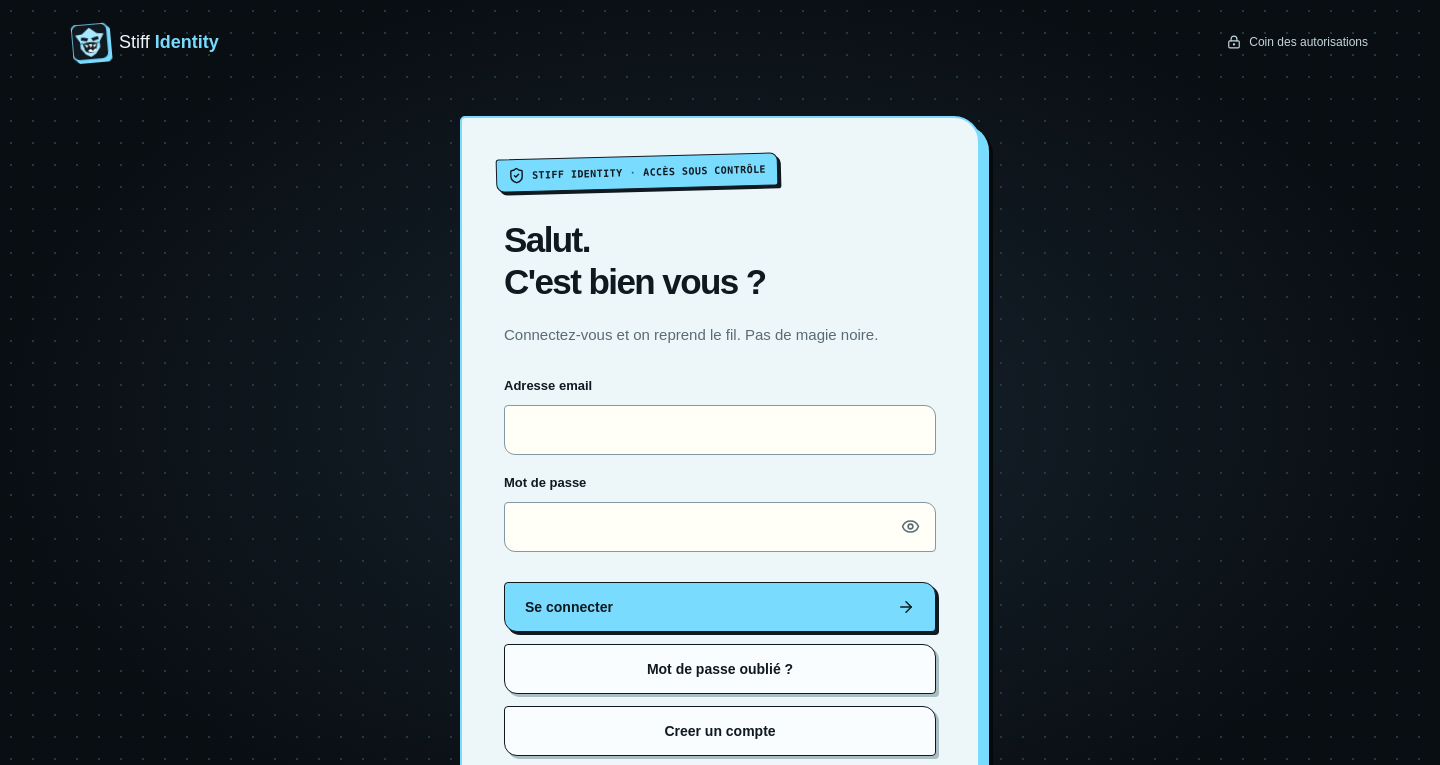
Test case: interface › propose la creation de compte et affiche une confirmation generique
The width and height of the screenshot is (1440, 765).
Click the button with class "auth-switch" at (720,731), box [504, 706, 936, 756]
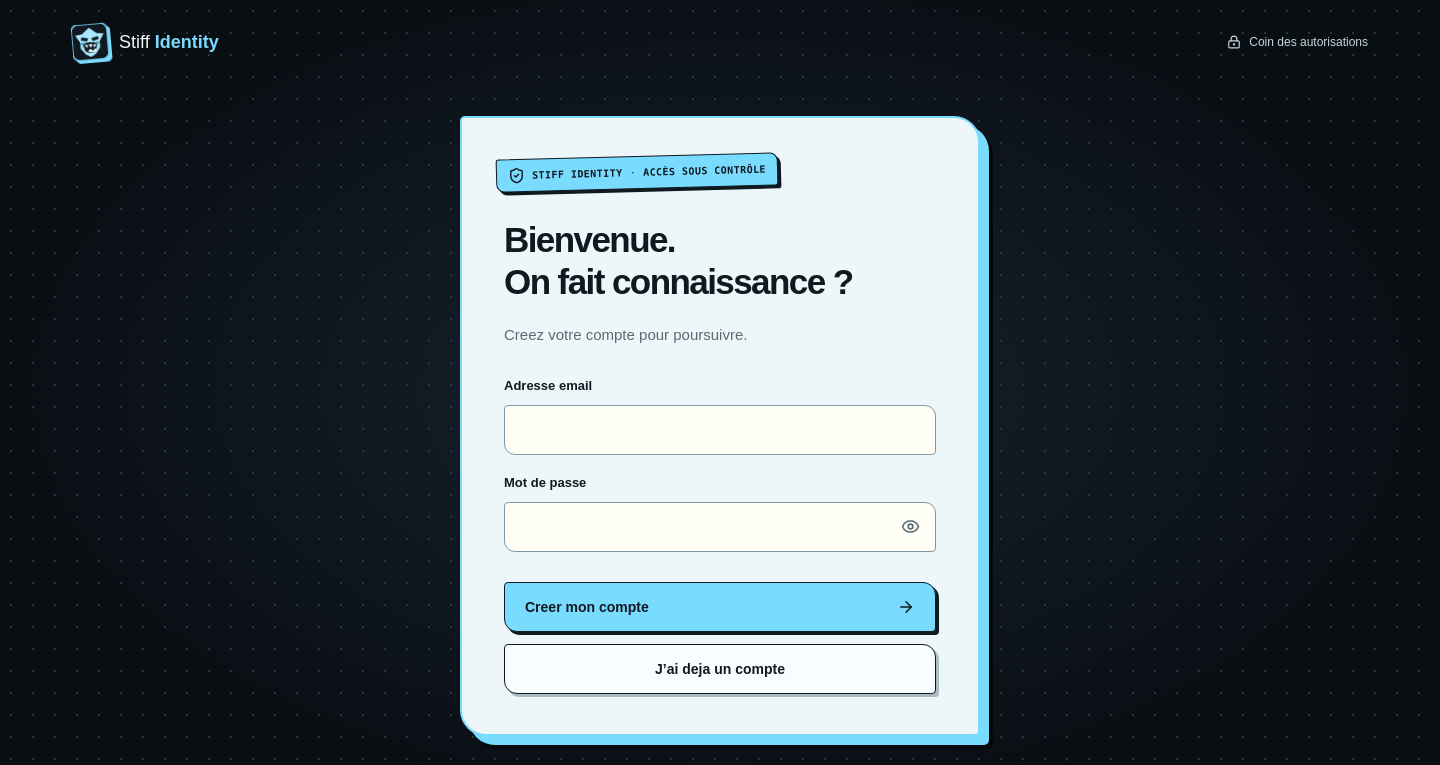
Expected: the text "Creez votre compte" is shown, [504, 326, 748, 343]
Type "user@example.com" into the field with id "email" at (720,430), box [504, 405, 936, 455]
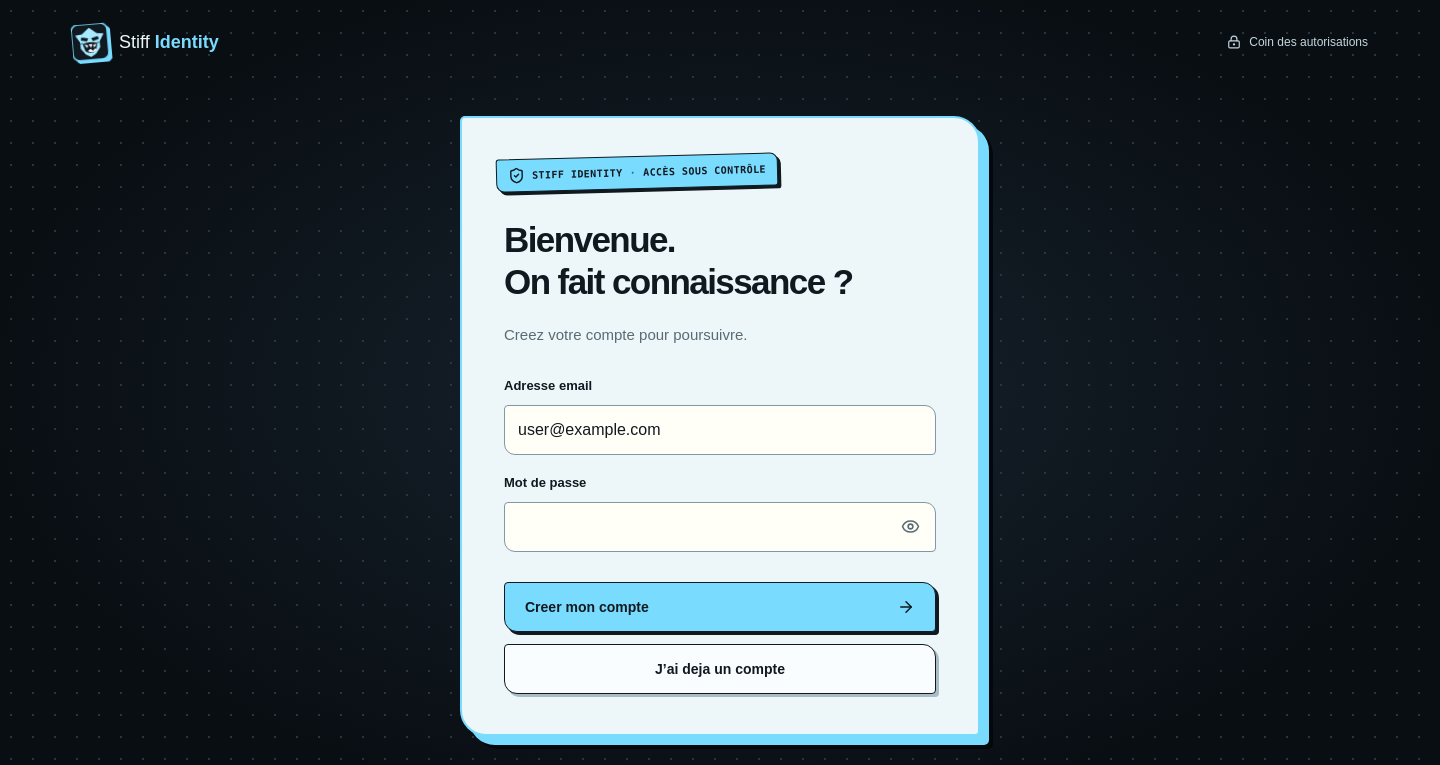
Type "secret-test" into the password field labelled "Mot de passe" at (720,527), box [504, 502, 936, 552]
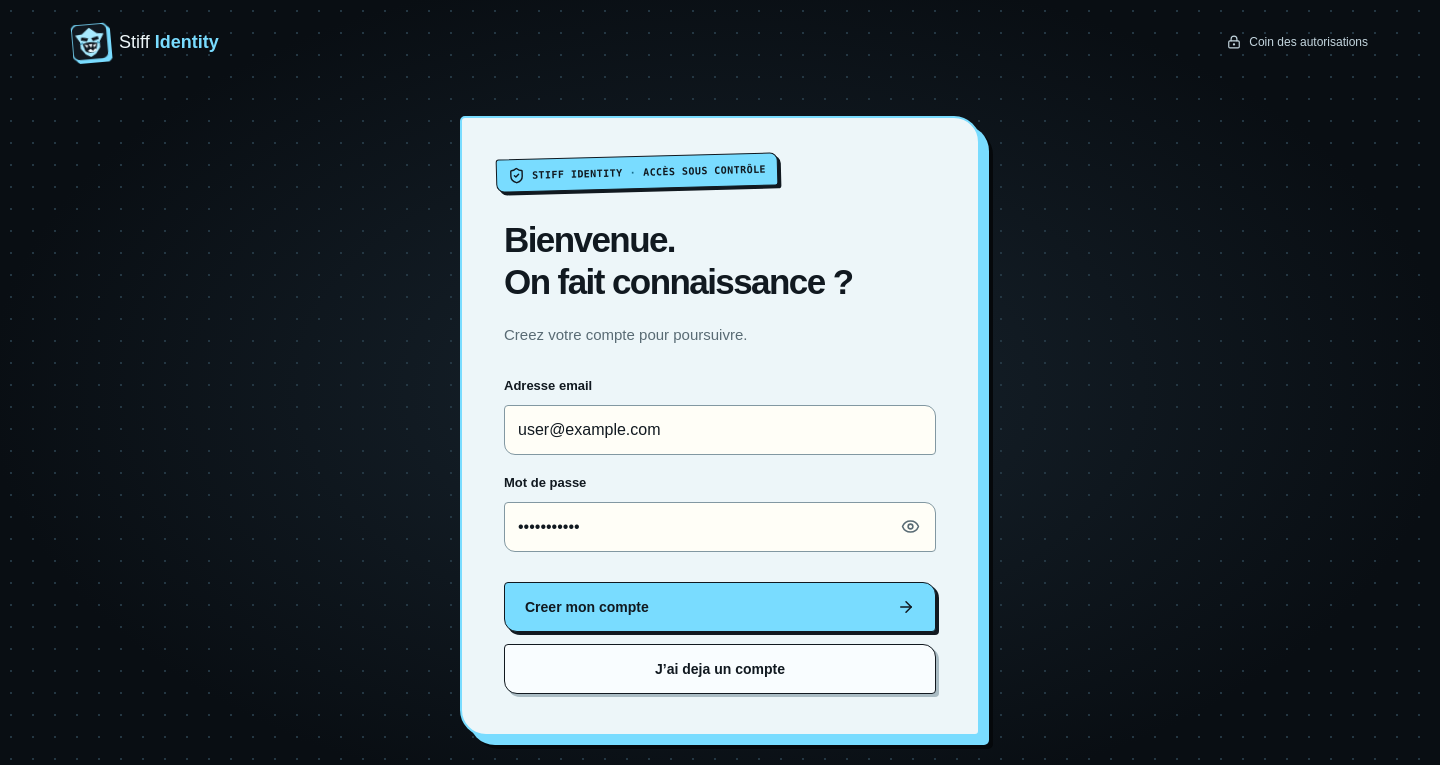
Submit the form, box [504, 378, 936, 694]
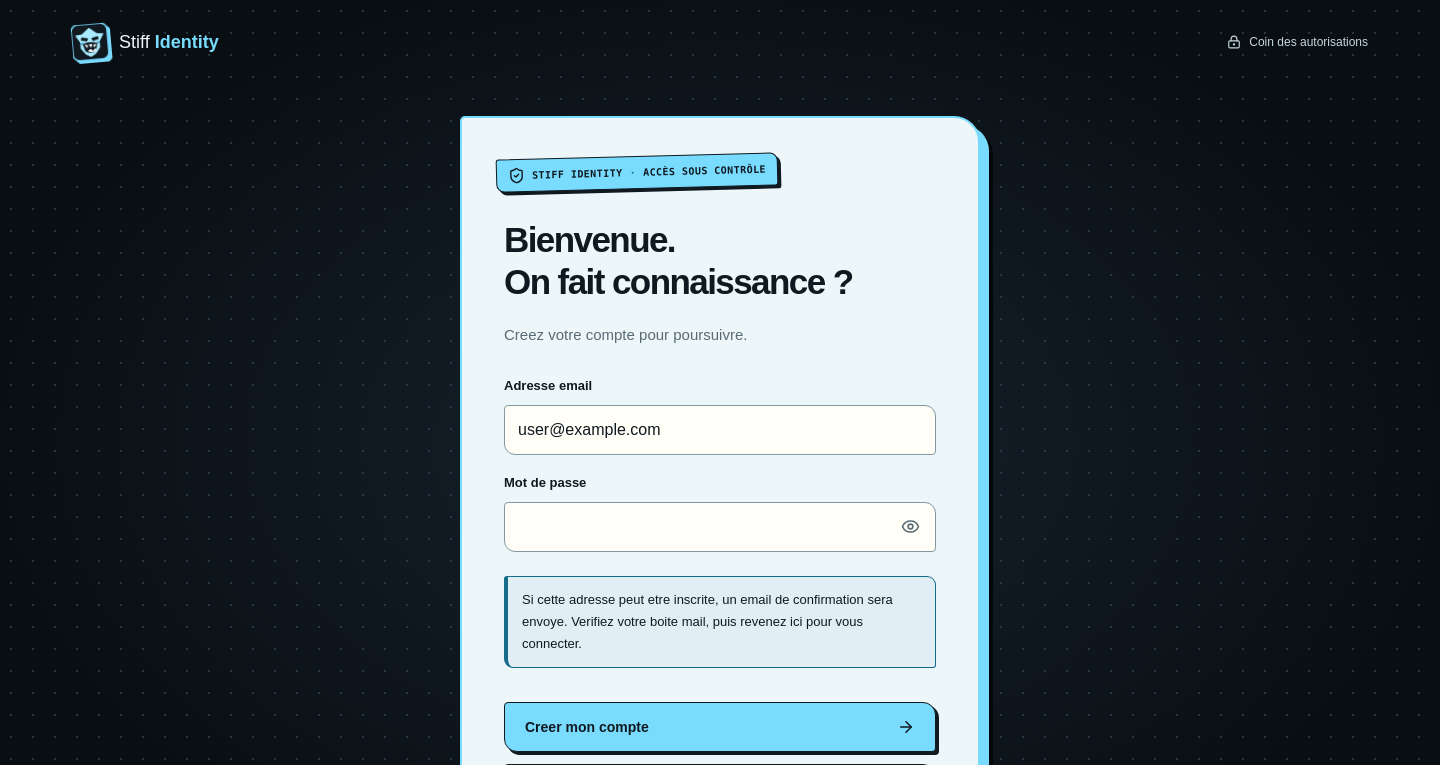
Expected: the password field labelled "Mot de passe" is empty, [504, 502, 936, 552]
Expected: the message shows "email de confirmation", [522, 592, 893, 651]
